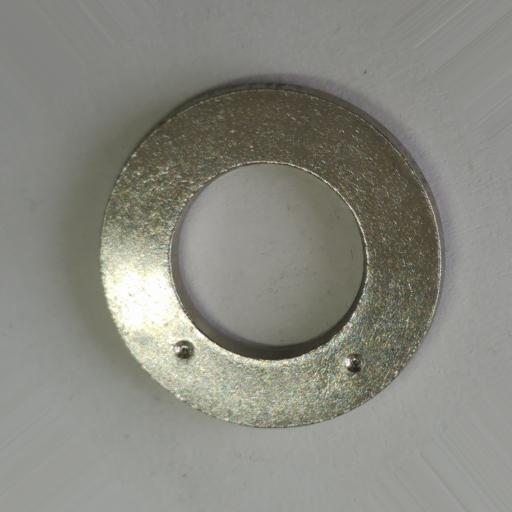circular_cavity: (173, 339, 194, 359), (344, 352, 364, 373)
